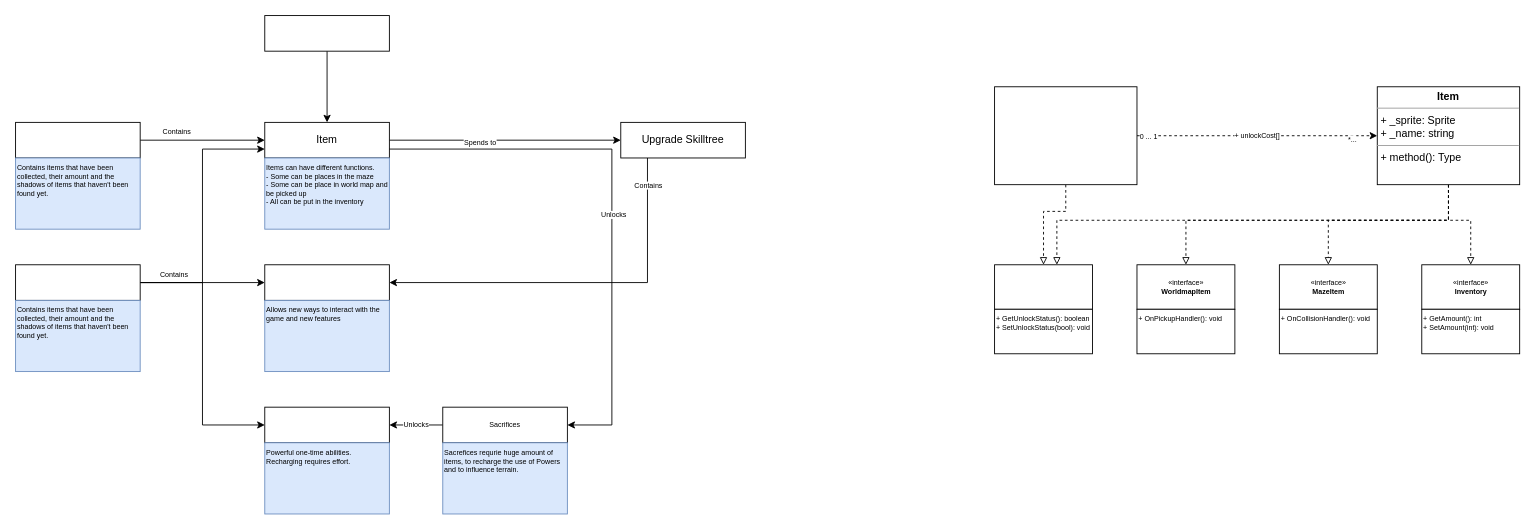
This 1535x530 diagram has some shape labels left out. Here are the shapes that lost their labels. From the top down, the centre of each, then its label:
point 326,33: Fishing
point 77,139: Inventory
point 1065,135: Technique + unlocked: boolean + method(): Type
point 77,282: Collection
point 326,282: Techniques
point 1043,286: «interface» Collectable
point 326,424: Powers
